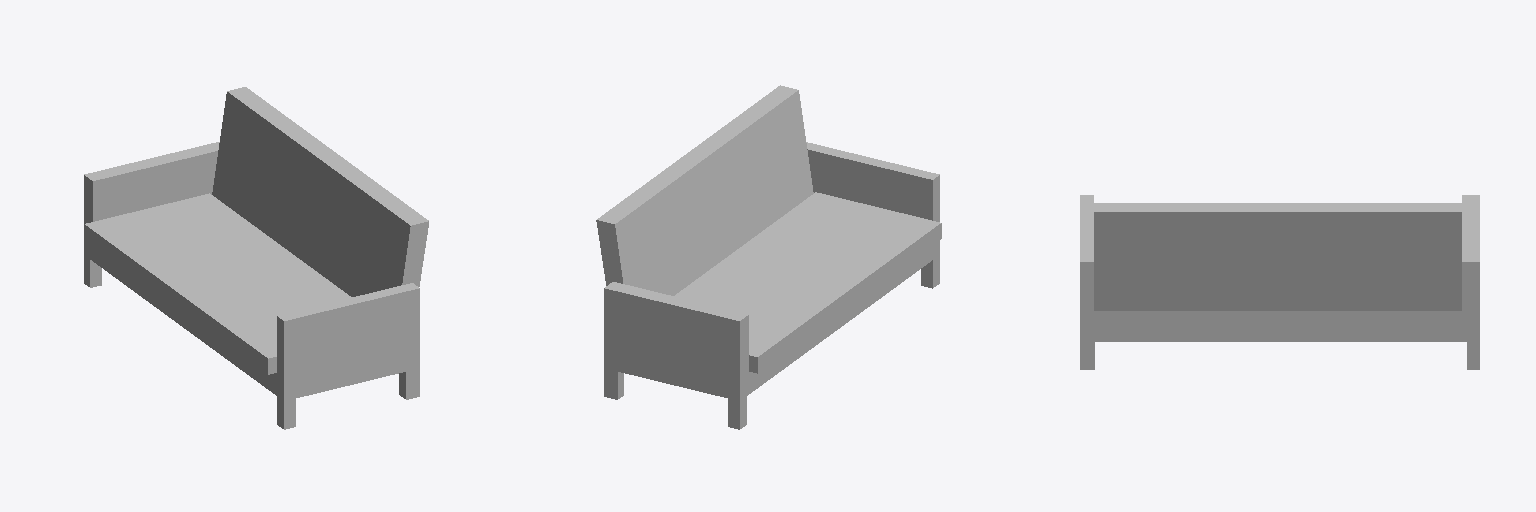
The model's file is BigSofa.obj.
3 views of the same model, side by side, from view 1: azimuth 30°, elevation 25°; view 2: azimuth 150°, elevation 25°; view 3: azimuth 270°, elevation 25° (orthographic).
Visible parts, largest first — view 1: BigSofa; view 2: BigSofa; view 3: BigSofa.
Part boxes in pixels (x1,y1,x2,y2): BigSofa: (84,87,428,429); BigSofa: (596,85,941,429); BigSofa: (1080,195,1479,369).
Size of the model in its own units: 135 by 133 by 291.